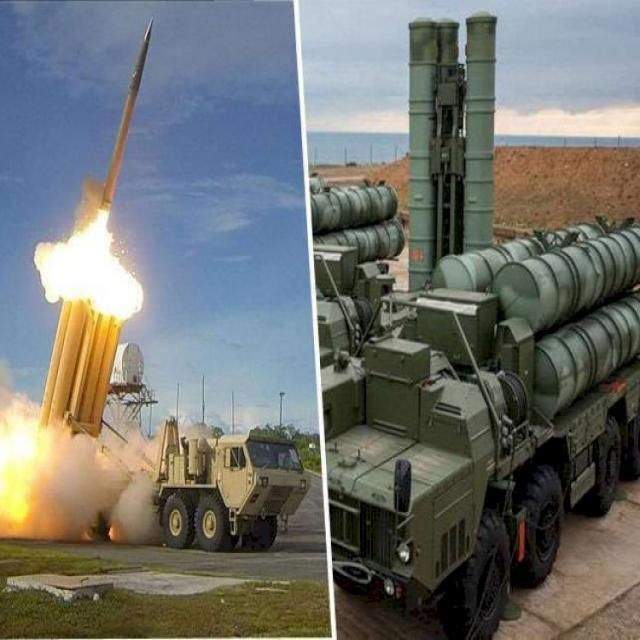missile: (91, 13, 157, 219)
